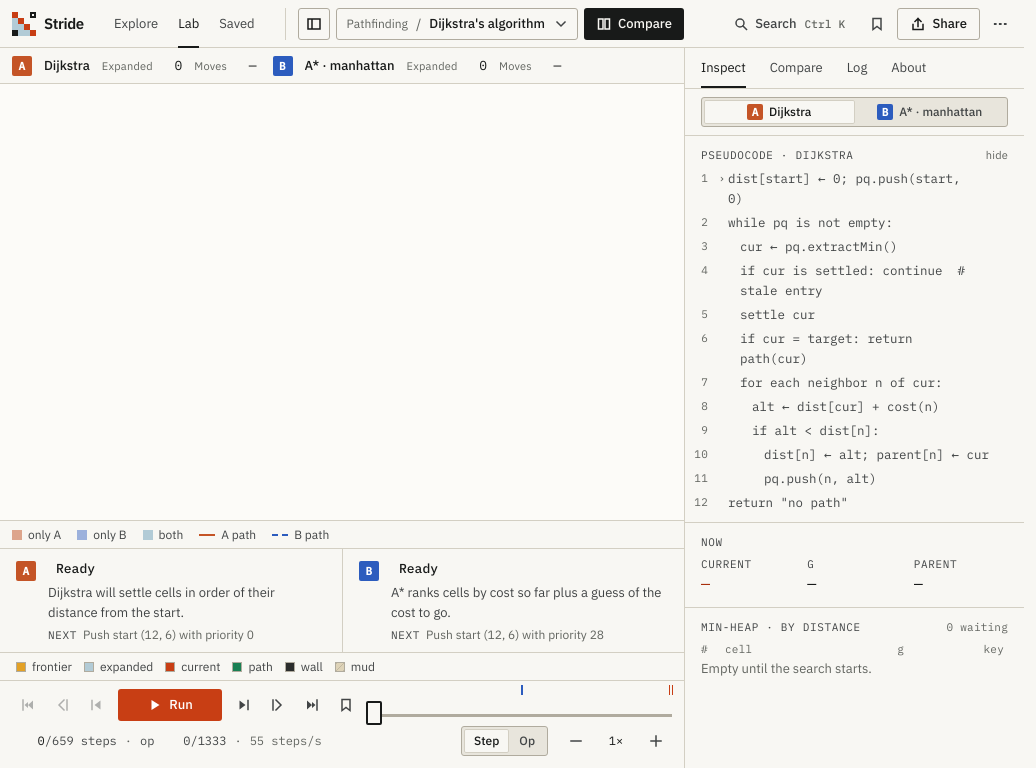
lab › compares two algorithms with a verdict, not just two canvases
Check: the slider named "Timeline position" is shown, box left=366, top=701, right=382, bottom=725
Press the mouse on the tab "Compare": (796, 68) left=758, top=48, right=835, bottom=88
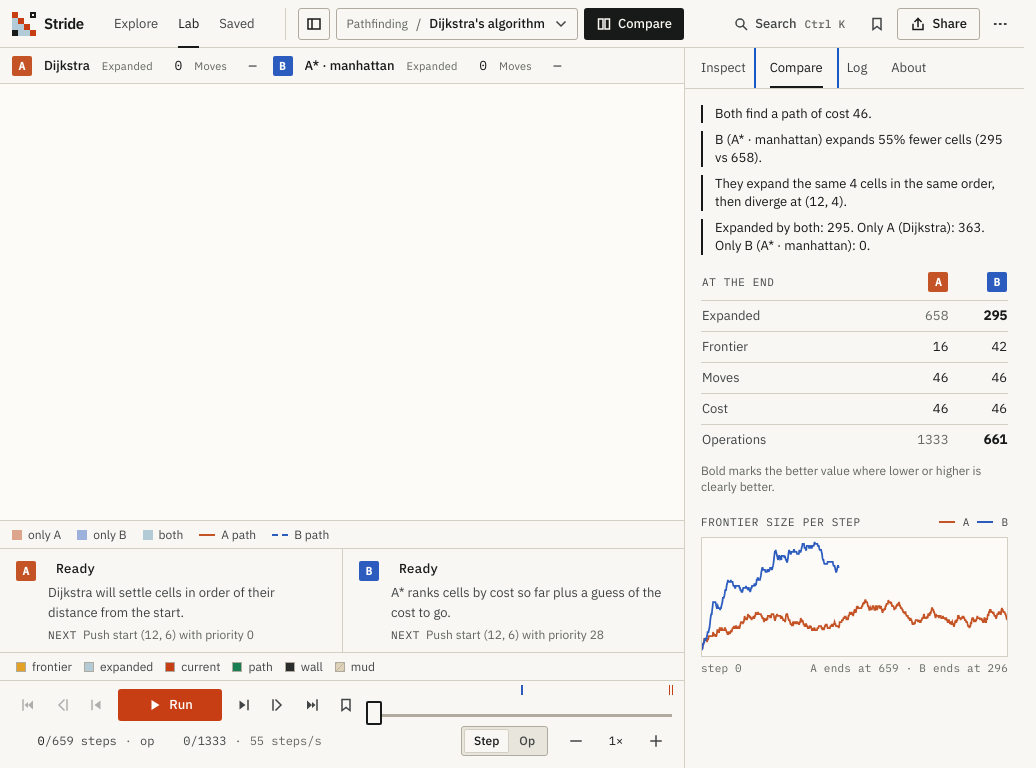
Check: the panel shows "Both find a path of cost", box left=715, top=105, right=872, bottom=122
